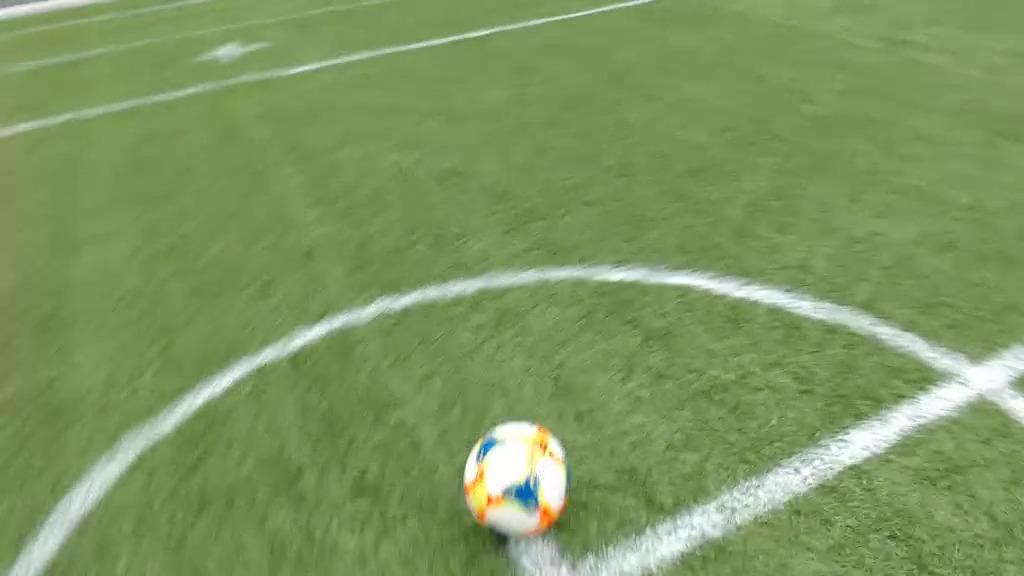ball: (465, 420, 568, 533)
